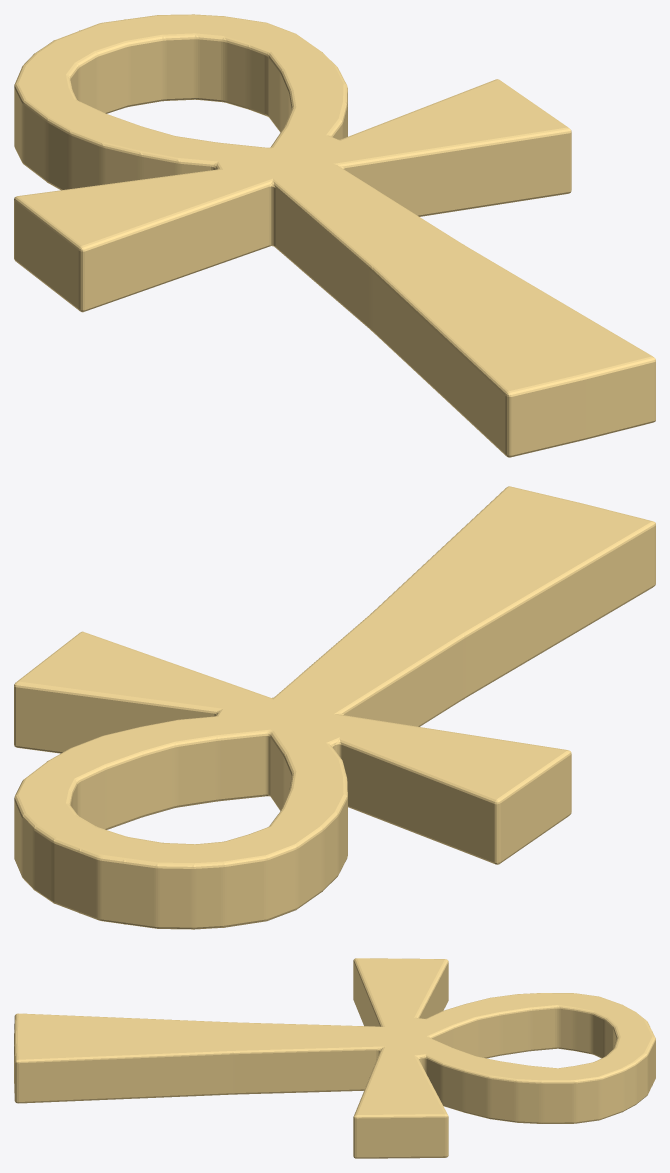
File: Ankh.fbx
3 views of the same model, one above another, from view 1: azimuth 30°, elevation 25°; view 2: azimuth 150°, elevation 25°; view 3: azimuth 270°, elevation 25° (orthographic). The views are drawn at different scales.
Visible parts, largest first — view 1: Plane; view 2: Plane; view 3: Plane.
Part boxes in pixels (<box>): Plane: <box>14,14,655,457</box>; Plane: <box>14,486,655,929</box>; Plane: <box>14,958,655,1158</box>.
Bounding box in the file's own units: 160 × 20.49 × 274.
